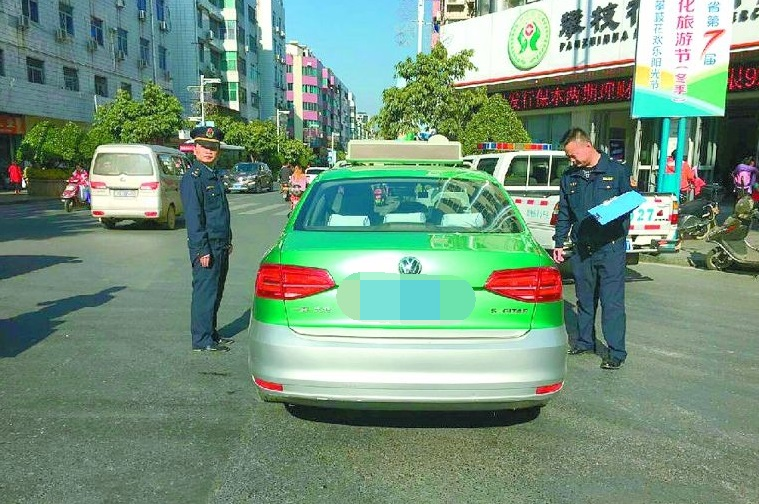taxi: (245, 132, 572, 420)
